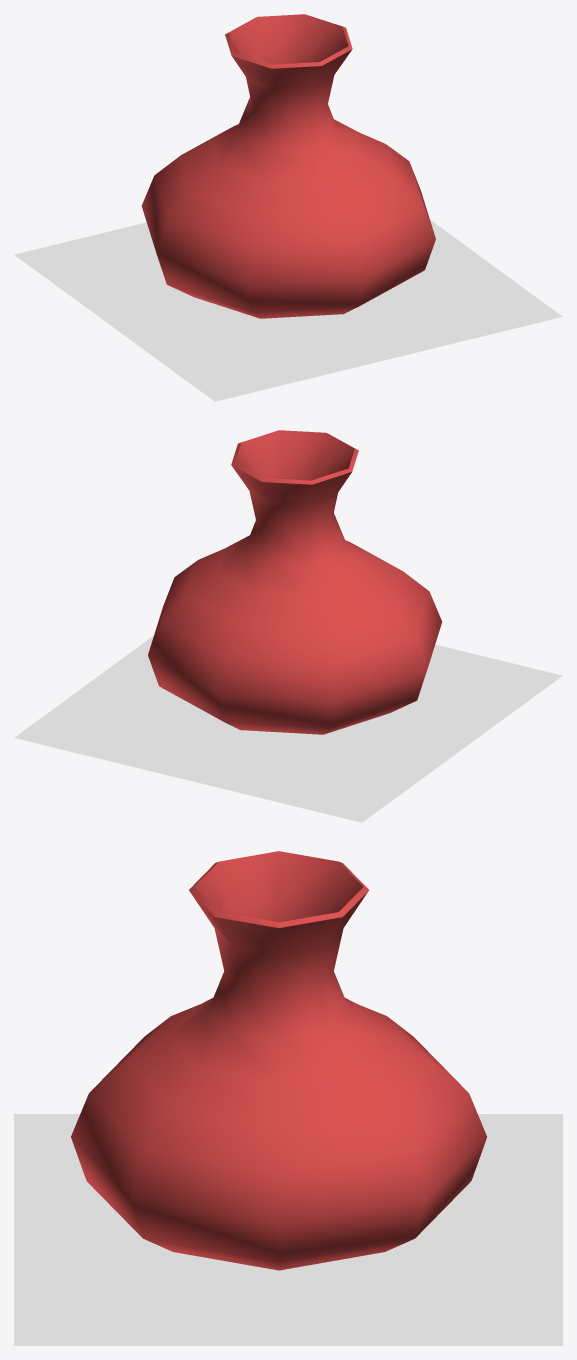
3 views of the same model, one above another, from view 1: azimuth 30°, elevation 25°; view 2: azimuth 150°, elevation 25°; view 3: azimuth 270°, elevation 25° (orthographic). The views are drawn at different scales.
Visible parts, largest first — view 1: Épaisseur.1, Plan; view 2: Épaisseur.1, Plan; view 3: Épaisseur.1, Plan.
Part boxes in pixels (<box>): Épaisseur.1: <box>141,14,435,318</box>; Plan: <box>14,220,562,401</box>; Épaisseur.1: <box>148,430,441,734</box>; Plan: <box>14,635,562,822</box>; Épaisseur.1: <box>71,851,486,1270</box>; Plan: <box>14,1114,562,1345</box>.
Bounding box in the file's own units: 4 × 2.74 × 4.
